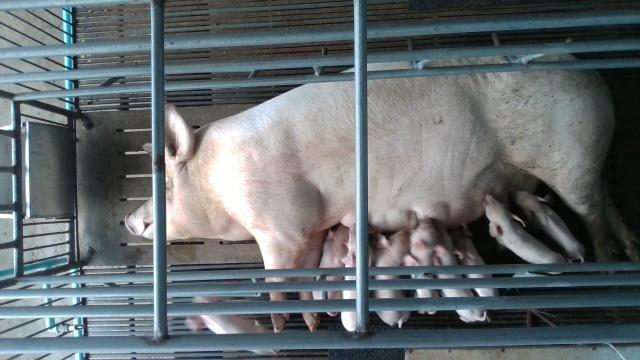piglet: (486, 195, 565, 274), (434, 228, 491, 323), (512, 189, 584, 263), (372, 229, 410, 328), (405, 219, 440, 315), (452, 228, 499, 297), (340, 232, 371, 332), (312, 224, 345, 316)
sow-sleep-lactate: (126, 51, 640, 333)
